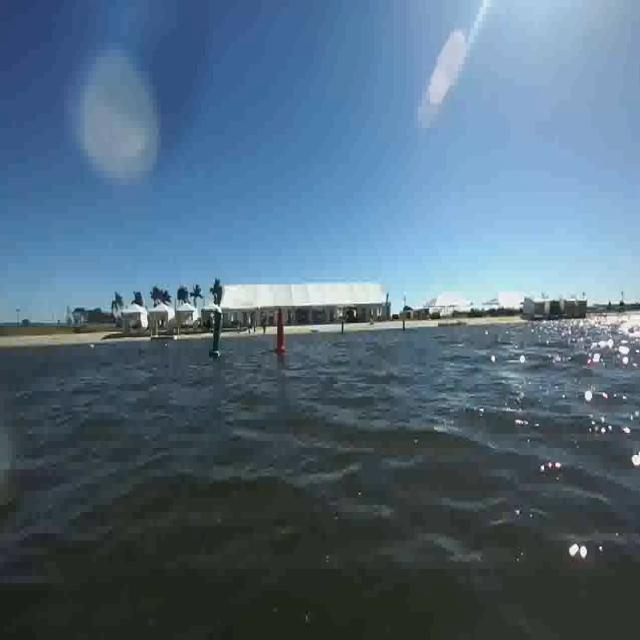green-column-buoy: (208, 307, 225, 359)
red-column-buoy: (274, 310, 288, 356)
